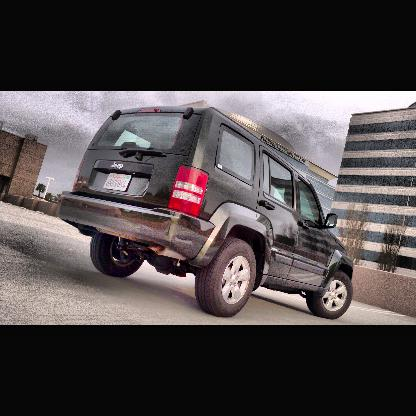Jeep Liberty SUV 2012: (57, 106, 356, 321)
